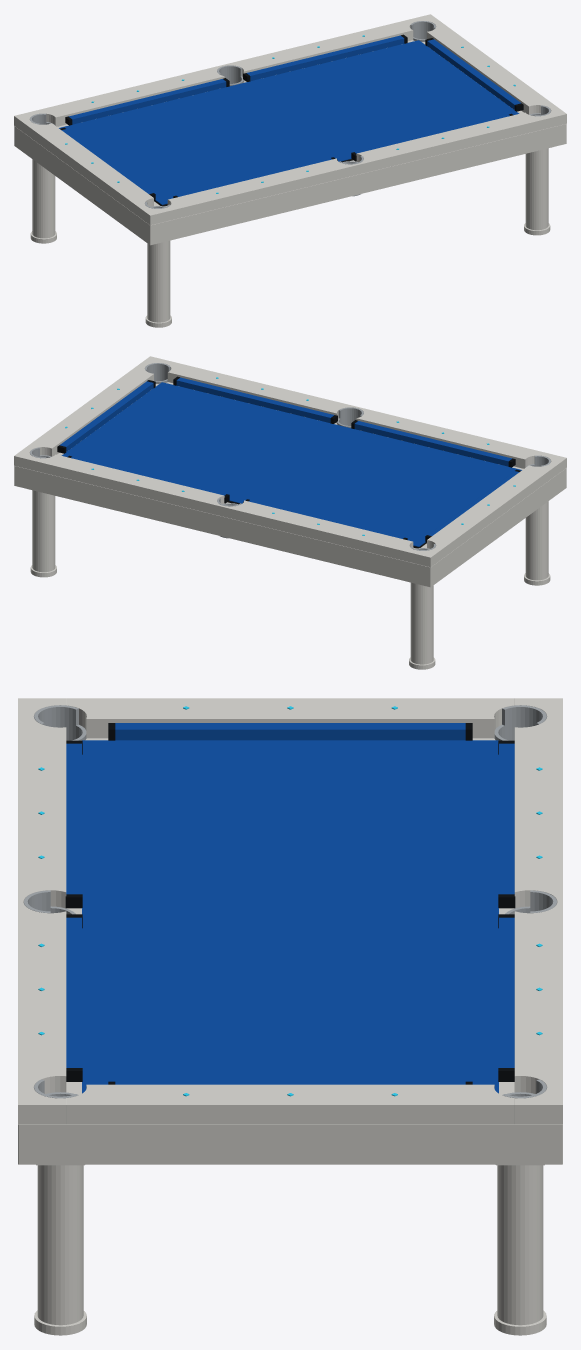
Rendered from table_d.glb.
3 views of the same model, one above another, from view 1: azimuth 30°, elevation 25°; view 2: azimuth 150°, elevation 25°; view 3: azimuth 270°, elevation 25° (orthographic). The views are drawn at different scales.
Visible parts, largest first — view 1: SM_Cloth, SM_Rails, SM_Apron, SM_Legs, SM_Cushions, SM_PocketWells, SM_Facings; view 2: SM_Cloth, SM_Rails, SM_Apron, SM_Legs, SM_Cushions, SM_PocketWells, SM_Facings; view 3: SM_Cloth, SM_Rails, SM_Apron, SM_Cushions, SM_Legs, SM_PocketWells, SM_Facings.
Boxes of the visible parts, bbox=[...] form: SM_Cloth: bbox=[59, 40, 519, 204]; SM_Rails: bbox=[14, 14, 566, 225]; SM_Apron: bbox=[14, 40, 566, 245]; SM_Legs: bbox=[30, 148, 550, 327]; SM_Cushions: bbox=[61, 35, 520, 196]; SM_PocketWells: bbox=[30, 21, 550, 208]; SM_Facings: bbox=[60, 34, 523, 199]; SM_Cloth: bbox=[61, 382, 521, 546]; SM_Rails: bbox=[14, 356, 566, 567]; SM_Apron: bbox=[14, 382, 566, 587]; SM_Legs: bbox=[30, 490, 550, 669]; SM_Cushions: bbox=[60, 377, 519, 538]; SM_PocketWells: bbox=[30, 363, 550, 550]; SM_Facings: bbox=[57, 376, 520, 541]; SM_Cloth: bbox=[82, 740, 498, 1093]; SM_Rails: bbox=[18, 698, 562, 1124]; SM_Apron: bbox=[18, 738, 562, 1164]; SM_Cushions: bbox=[66, 723, 514, 1084]; SM_Legs: bbox=[34, 1164, 546, 1335]; SM_PocketWells: bbox=[23, 705, 557, 1098]; SM_Facings: bbox=[65, 723, 515, 1084].
Size of the model in its own units: 2.93 by 0.803 by 1.66.
